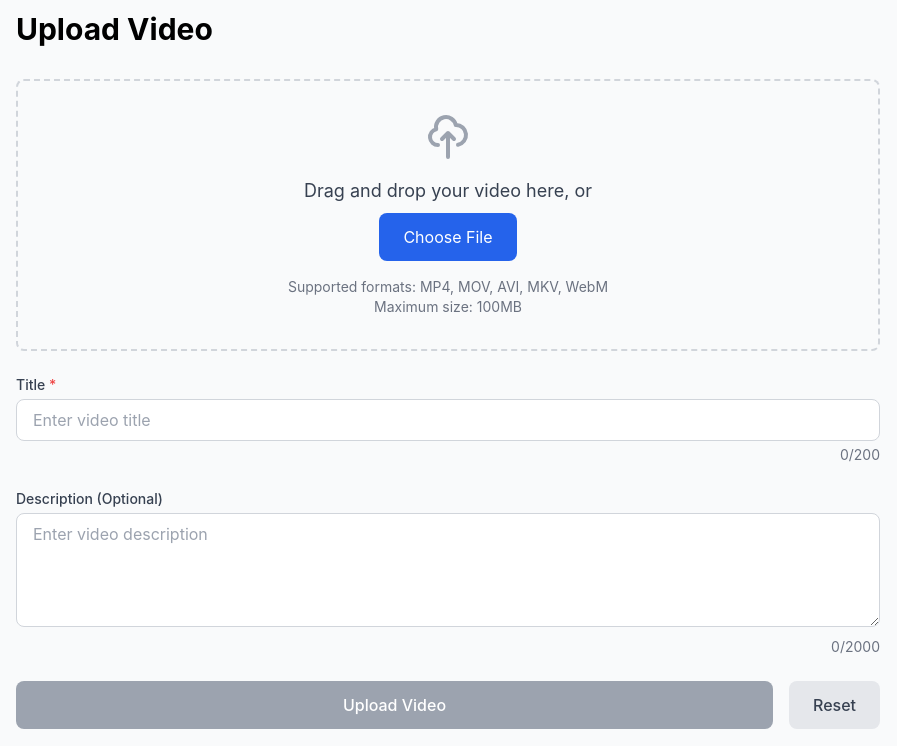
Test case: Upload Page › should show character count for title and description
Type "Test Video" into the field labelled "Title *" at (448, 420), box x1=16 y1=399 x2=880 y2=441
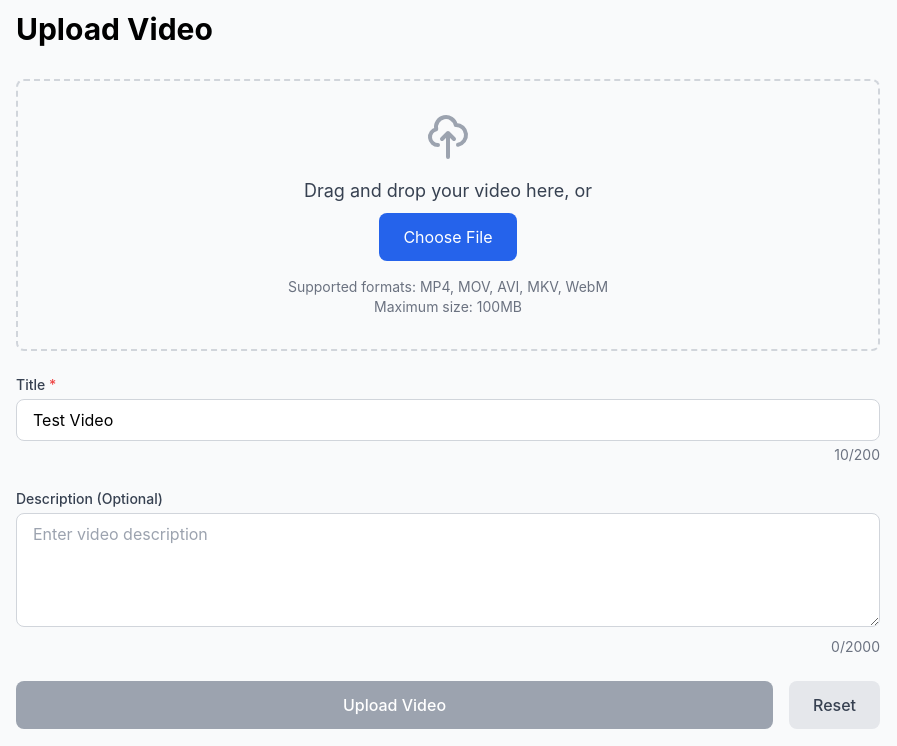
Type "Test description" into the text box labelled "Description (Optional)" at (448, 570), box x1=16 y1=513 x2=880 y2=627
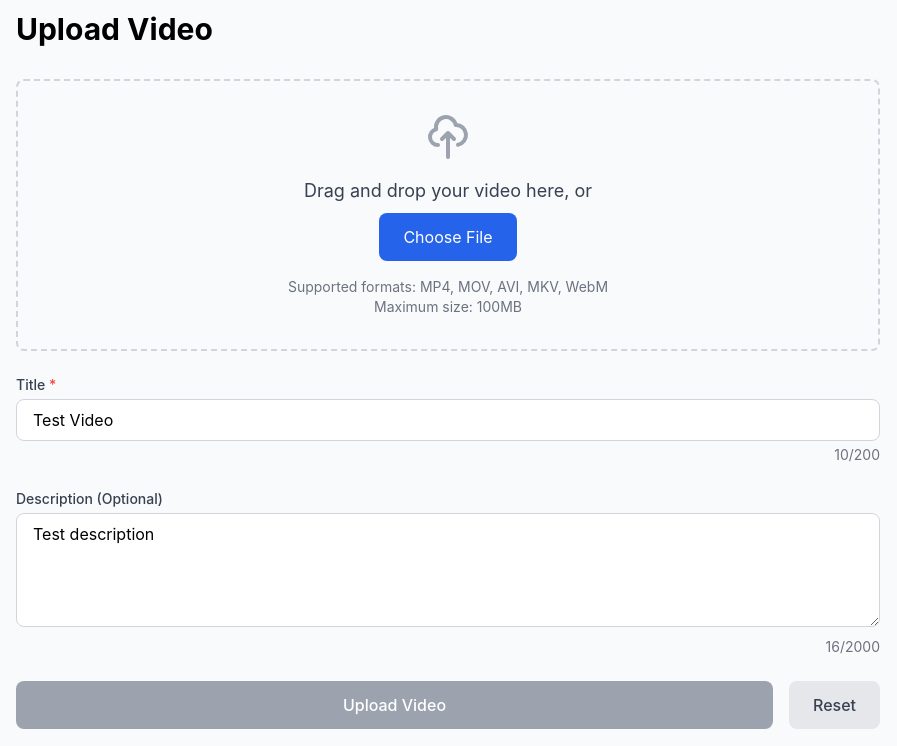
Check: the text "10/200" is shown, box x1=834 y1=445 x2=880 y2=465
Check: the text "16/2000" is shown, box x1=826 y1=637 x2=880 y2=657
